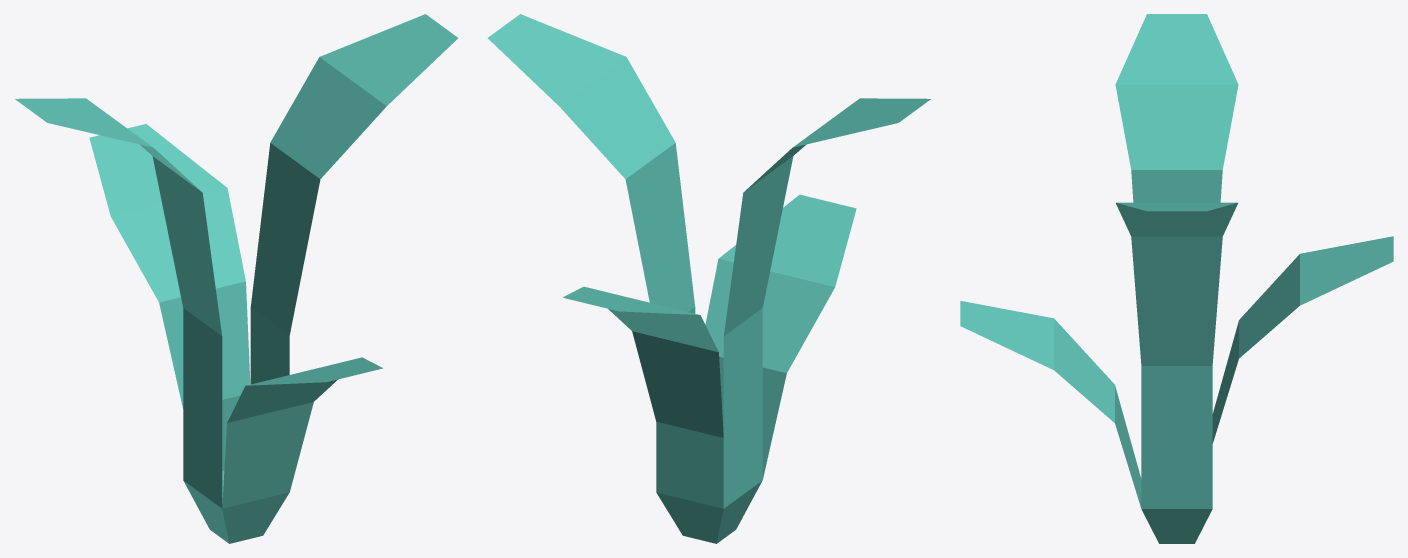
Rendered from crops_leafsStageA.glb.
3 views of the same model, side by side, from view 1: azimuth 30°, elevation 25°; view 2: azimuth 150°, elevation 25°; view 3: azimuth 270°, elevation 25° (orthographic). The views are drawn at different scales.
Parts seen in each view (by area): view 1: crops_leafsStageA; view 2: crops_leafsStageA; view 3: crops_leafsStageA.
Part boxes in pixels (<box>): crops_leafsStageA: <box>15,14,457,543</box>; crops_leafsStageA: <box>488,14,930,543</box>; crops_leafsStageA: <box>960,14,1393,543</box>.
Bounding box in the file's own units: 0.3894 × 0.4271 × 0.3894.
